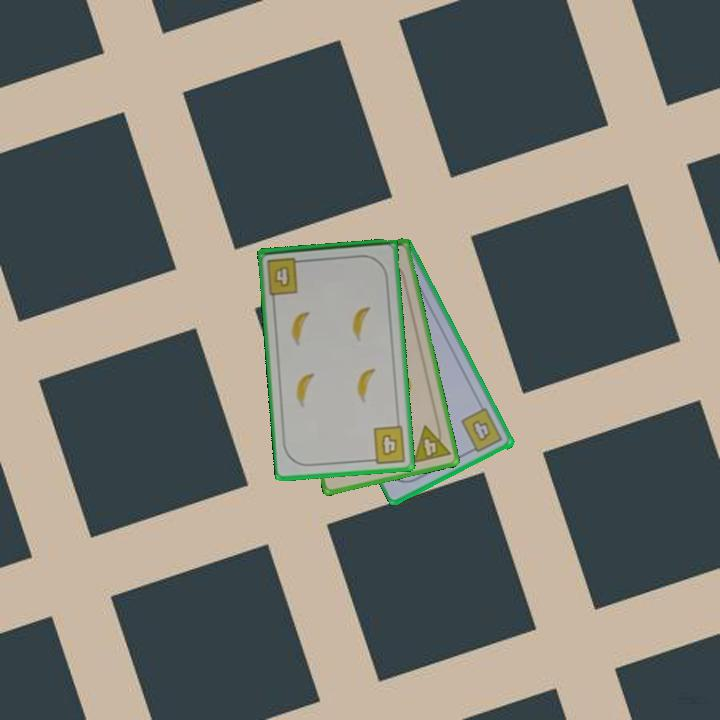4b: (458, 405, 506, 456), (365, 422, 409, 466), (263, 254, 308, 297)
4p: (409, 419, 453, 466)
